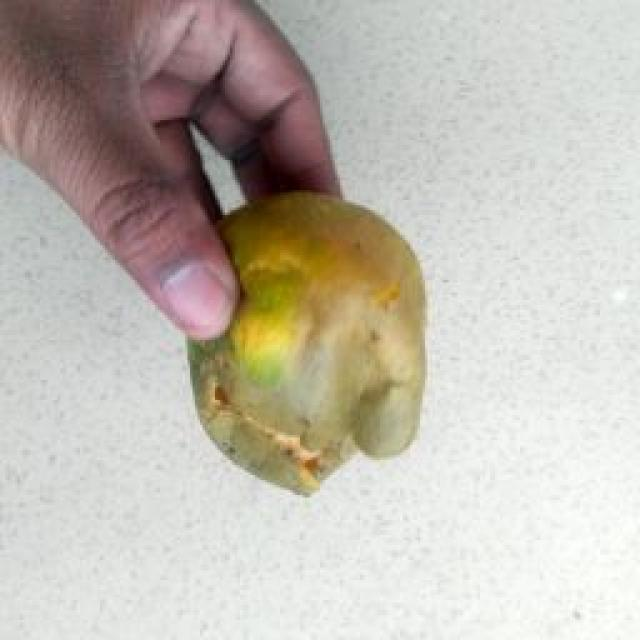Bad_Orange: (189, 192, 425, 494)
